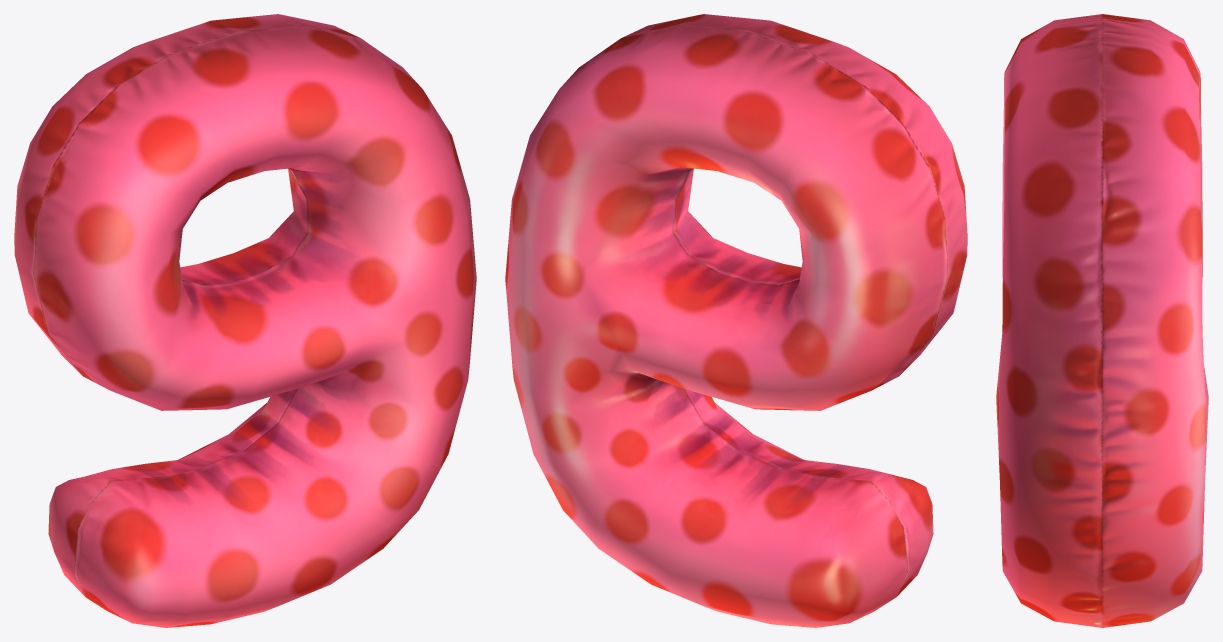
The model's file is balloon001.glb.
3 views of the same model, side by side, from view 1: azimuth 30°, elevation 25°; view 2: azimuth 150°, elevation 25°; view 3: azimuth 270°, elevation 25° (orthographic).
Visible parts, largest first — view 1: _TMP_Balloon001; view 2: _TMP_Balloon001; view 3: _TMP_Balloon001.
Boxes of the visible parts, bbox=[...] form: _TMP_Balloon001: bbox=[14, 14, 476, 627]; _TMP_Balloon001: bbox=[505, 14, 967, 627]; _TMP_Balloon001: bbox=[996, 14, 1208, 627].
Bounding box in the file's own units: 1.17 × 1.49 × 0.5109.
1 material, 1 textured.
